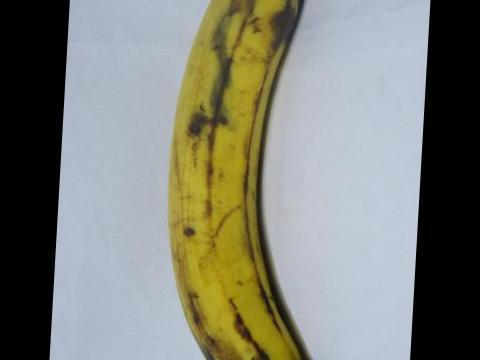ripe: (153, 0, 325, 359)
